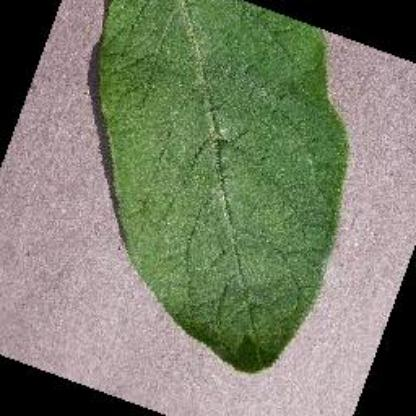Healthy-plant: (34, 0, 416, 354)
